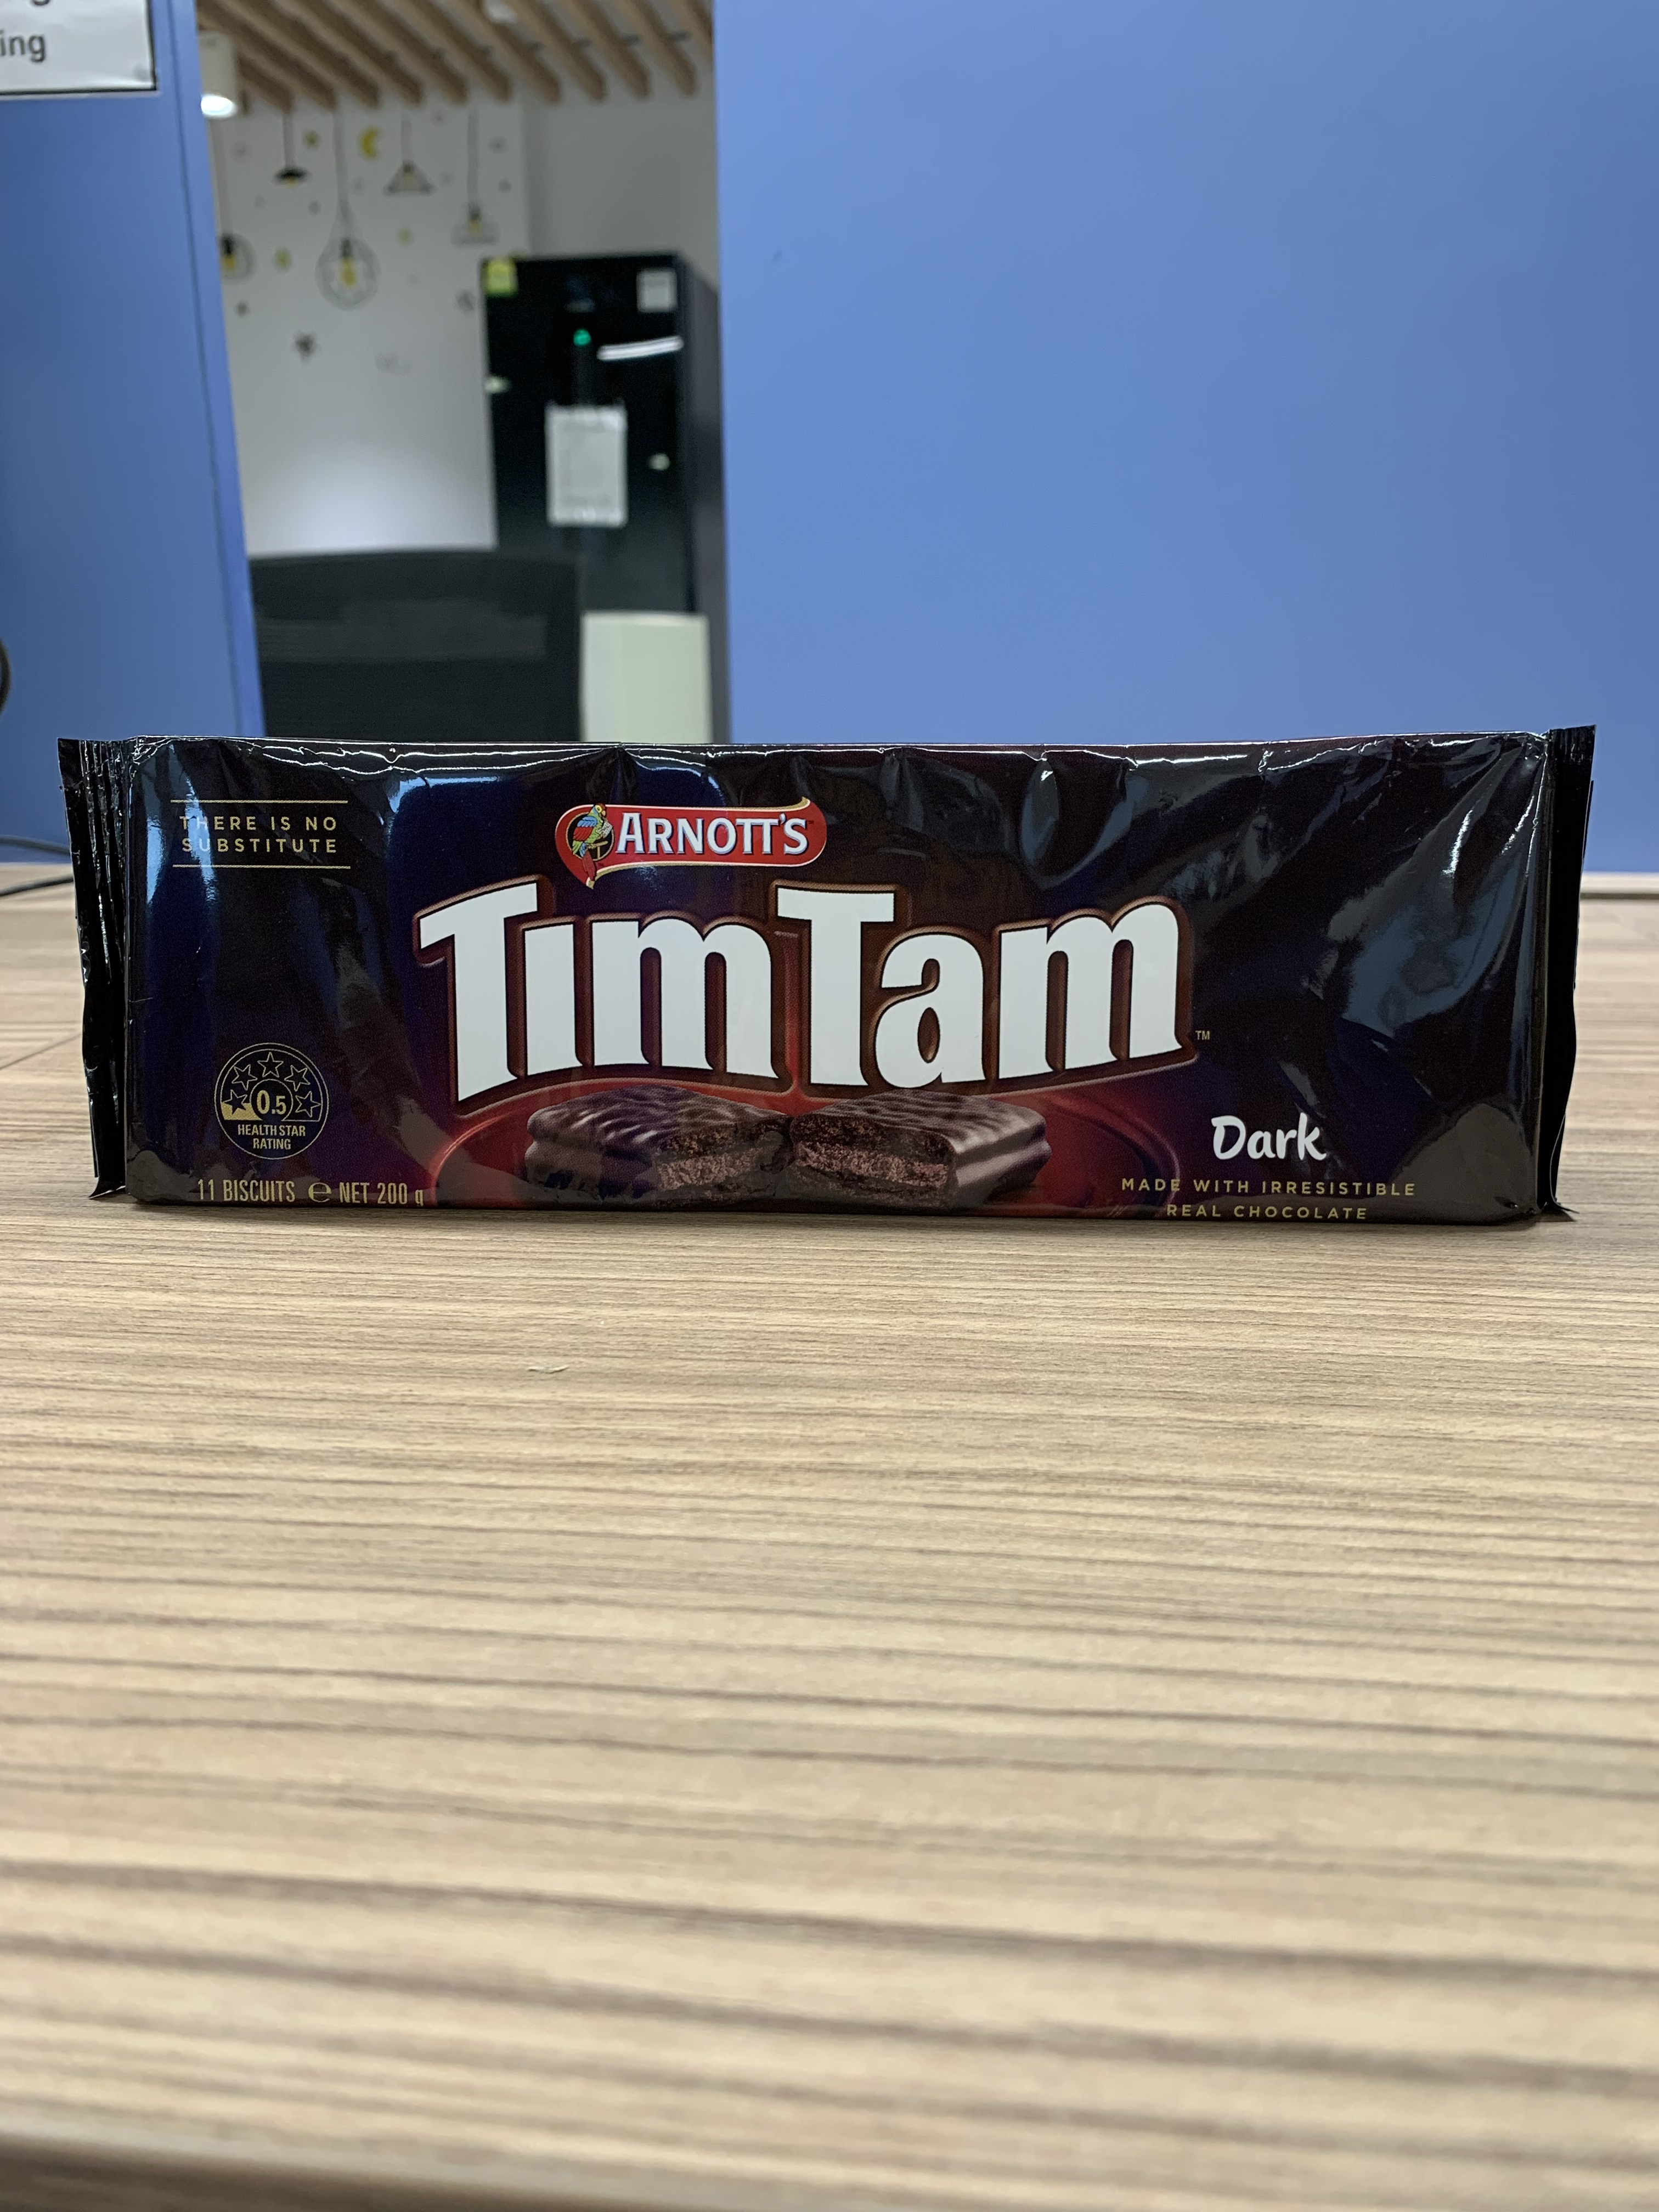cookies_200g-299g: (98, 738, 1544, 1230)
